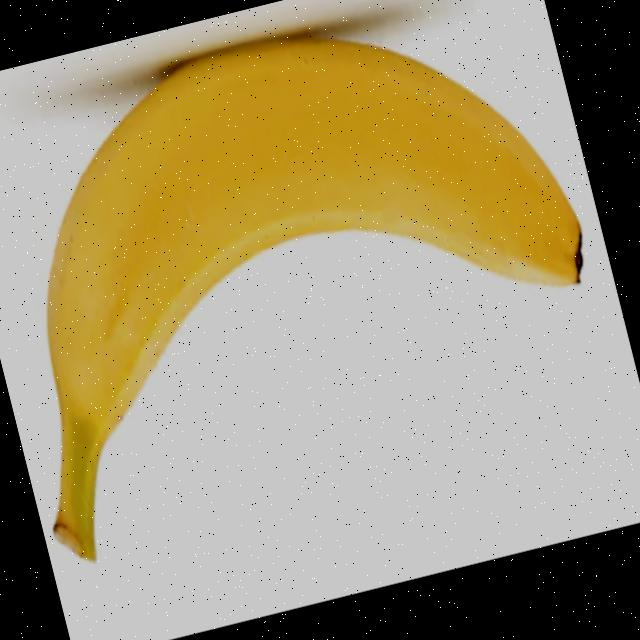banana: (0, 0, 633, 575)
